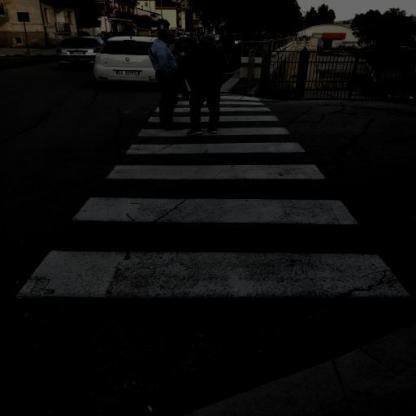crosswalk: (12, 190, 416, 316), (119, 125, 312, 159)
